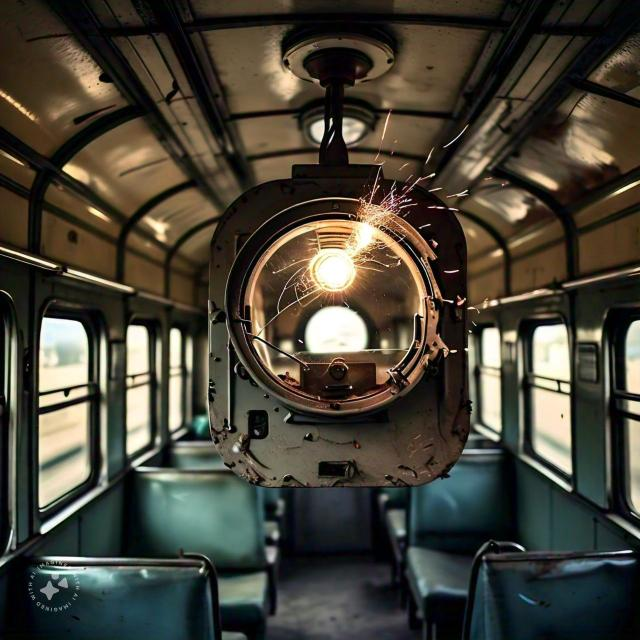Lights: (184, 115, 492, 477)
